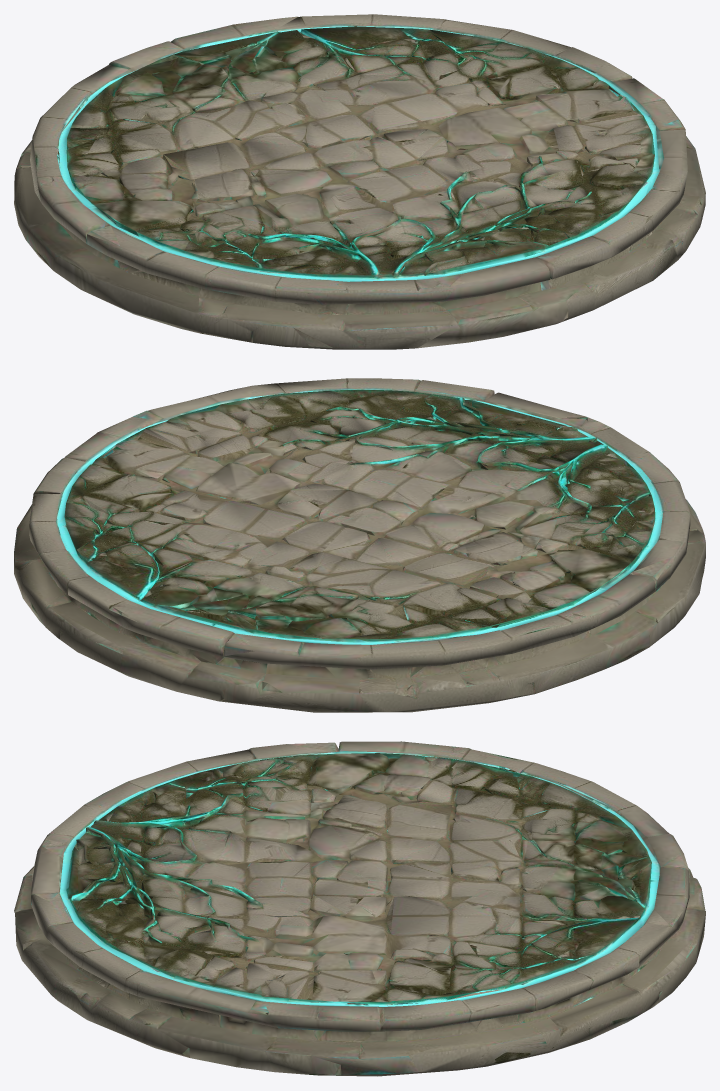
Rendered from center-meshy.glb.
3 renders of one model, top to bottom at view 1: azimuth 30°, elevation 25°; view 2: azimuth 150°, elevation 25°; view 3: azimuth 270°, elevation 25°, orthographic.
Parts seen in each view (by area): view 1: mesh_node; view 2: mesh_node; view 3: mesh_node.
Part boxes in pixels (x1,y1,x2,y2): mesh_node: (14,14,705,349); mesh_node: (14,378,705,712); mesh_node: (14,741,705,1076).
Size of the model in its own units: 2.17 by 0.2 by 2.17.
1 material, 1 textured.
